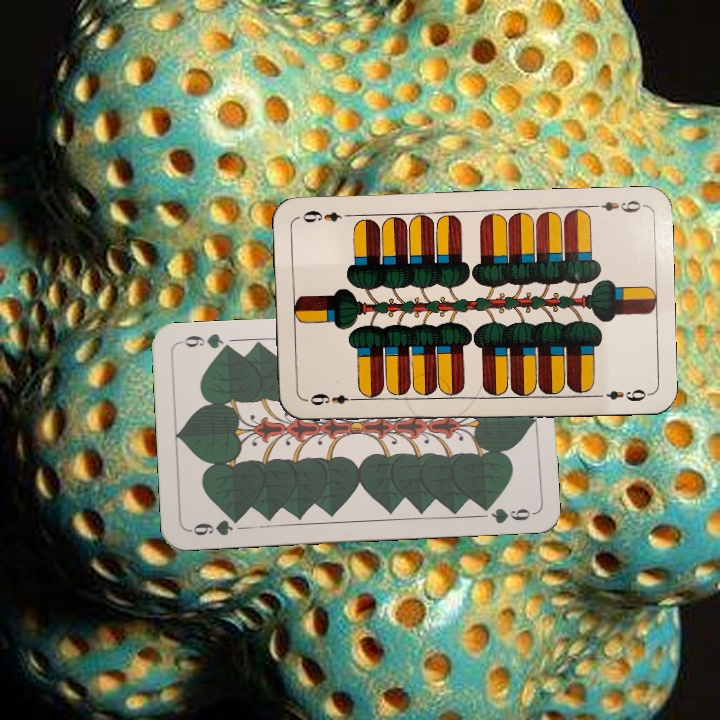E9: (587, 196, 646, 216), (302, 389, 361, 408)
G9: (185, 512, 244, 539)
